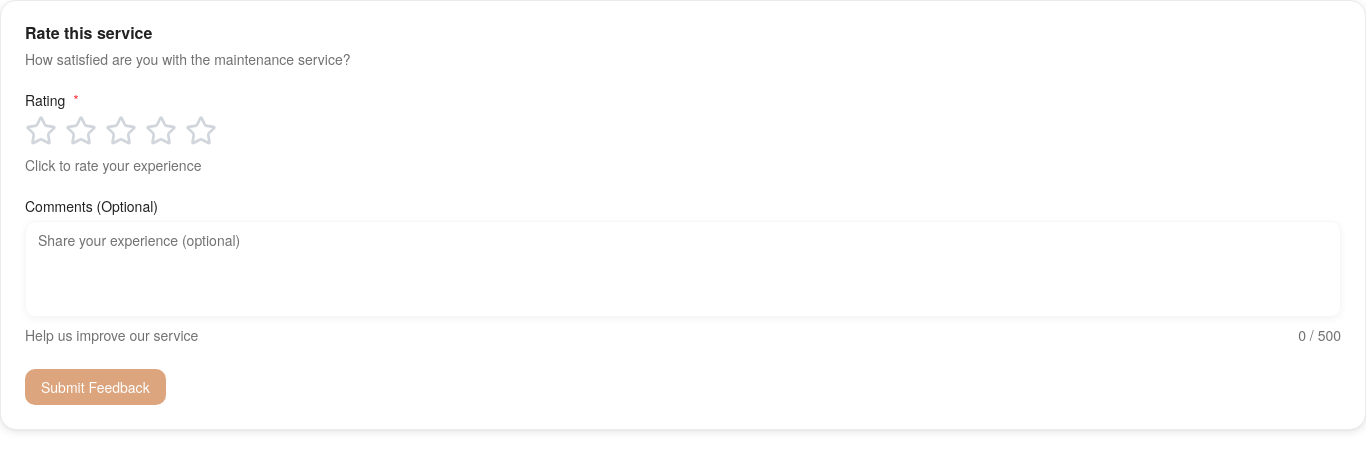
Test case: FeedbackForm › allows selecting a rating
The image size is (1366, 450).
Click the button with test id "star-5". click: (201, 131)
box: [185,115,217,147]
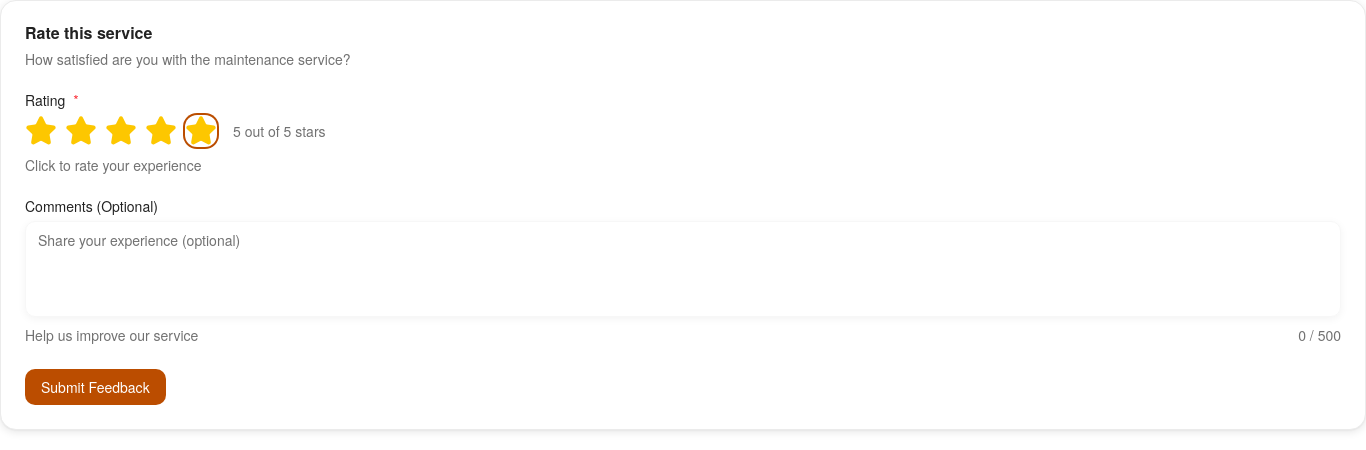
Check: the text "5 out of 5 stars" is shown, box [233,121,326,141]
Check: the button with test id "btn-submit-feedback" is enabled, box [25,369,166,405]
